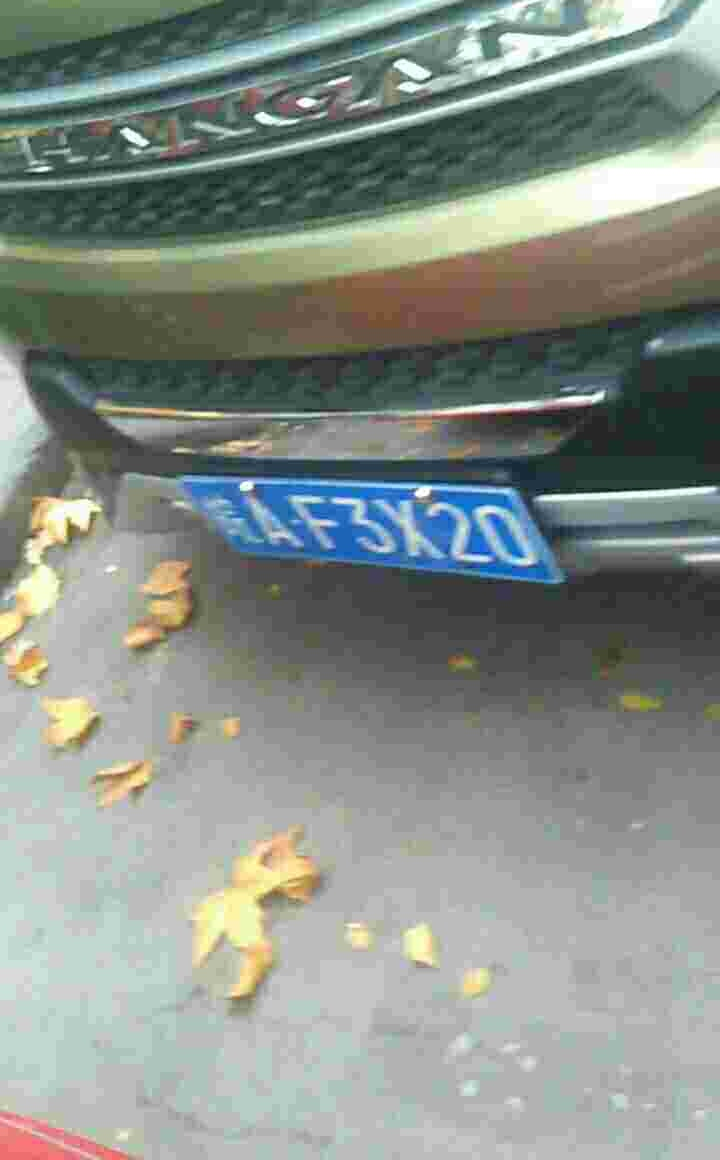license_plate: (197, 470, 557, 586)
